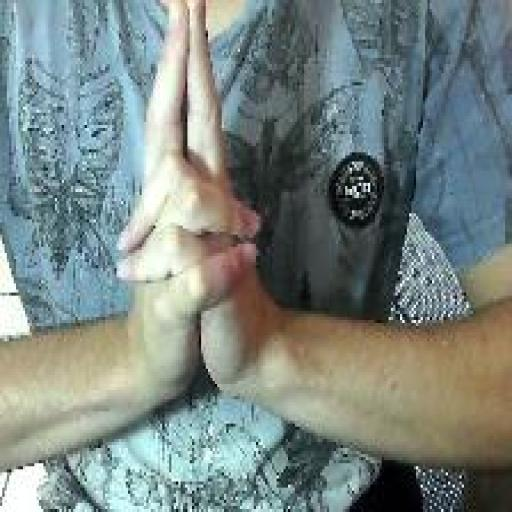Tora -tiger-: (110, 0, 266, 408)
